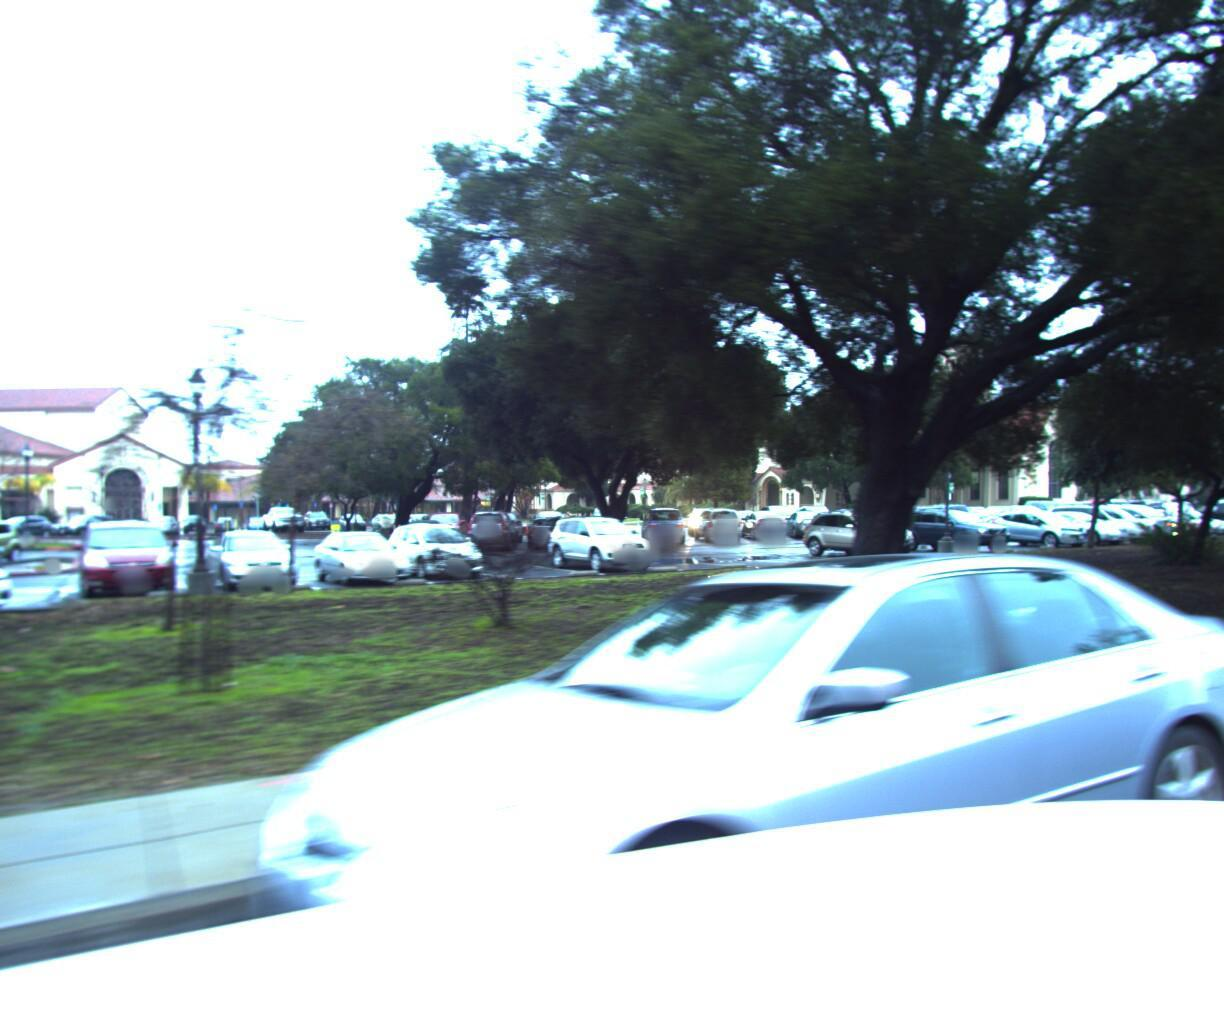car: (203, 529, 1224, 1024)
